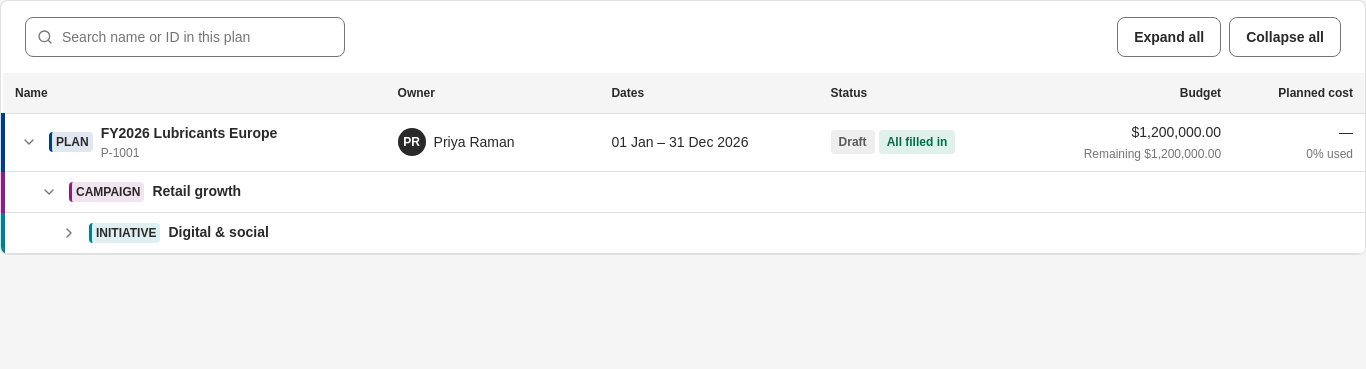
Test: 039 US1: the plan tree search finds line items › scenario 2: finds the line item by its ID
The width and height of the screenshot is (1366, 369).
Type "l-1001" into the search field labelled "Search name or ID in this plan" at x=185, y=37, box [25,17,345,57]
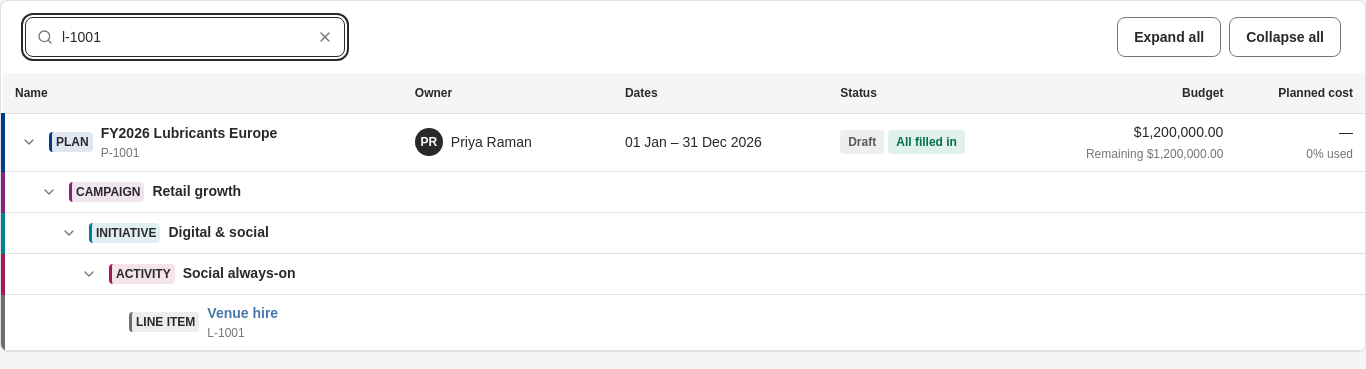
Now the link "Venue hire" is shown, box [207,302,278,324]
